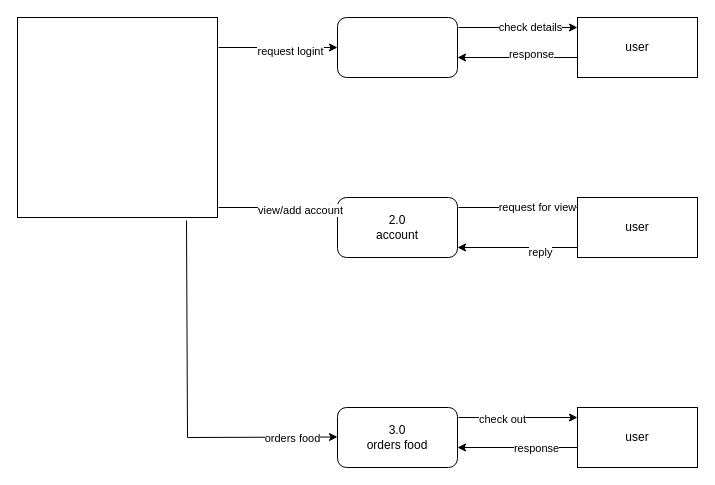
Image size: 715x485. Some labels were removed from this diagram. The centre of each missing label's shape, as x and y in pixels:
"1.0 login" goes at [397,47].
"2 USER" goes at [117,117].
